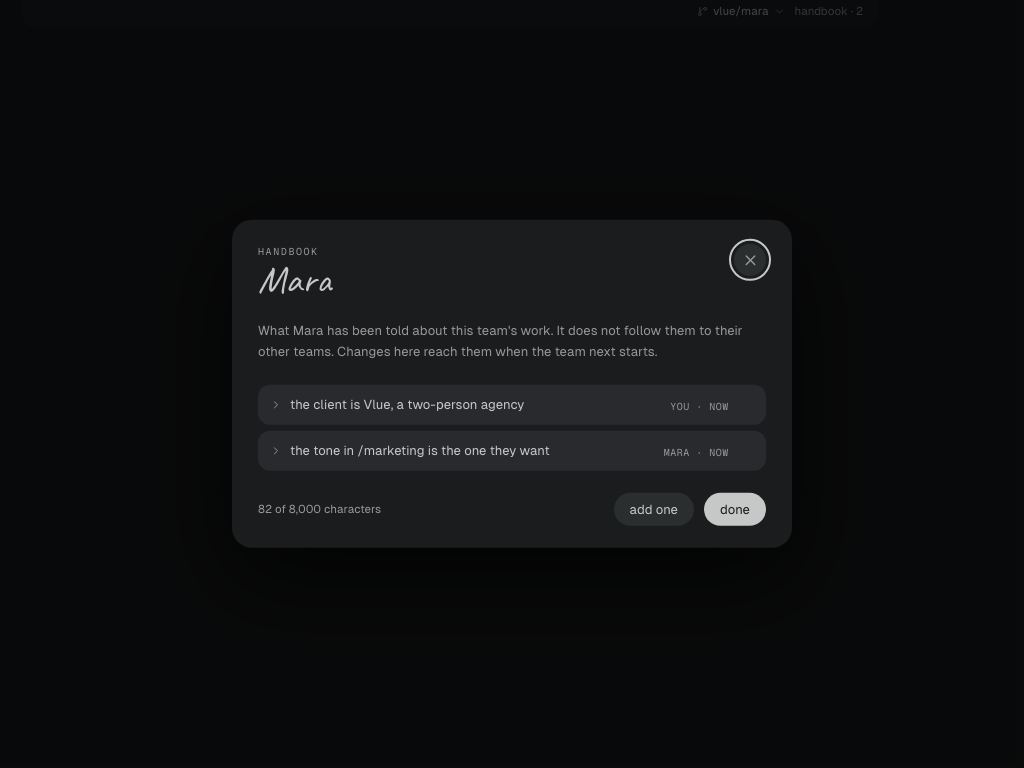
Test: the panel › hands the composer the words rather than writing an entry itself
The image size is (1024, 768).
Click the button "add one": (654, 509) [614,493,694,526]
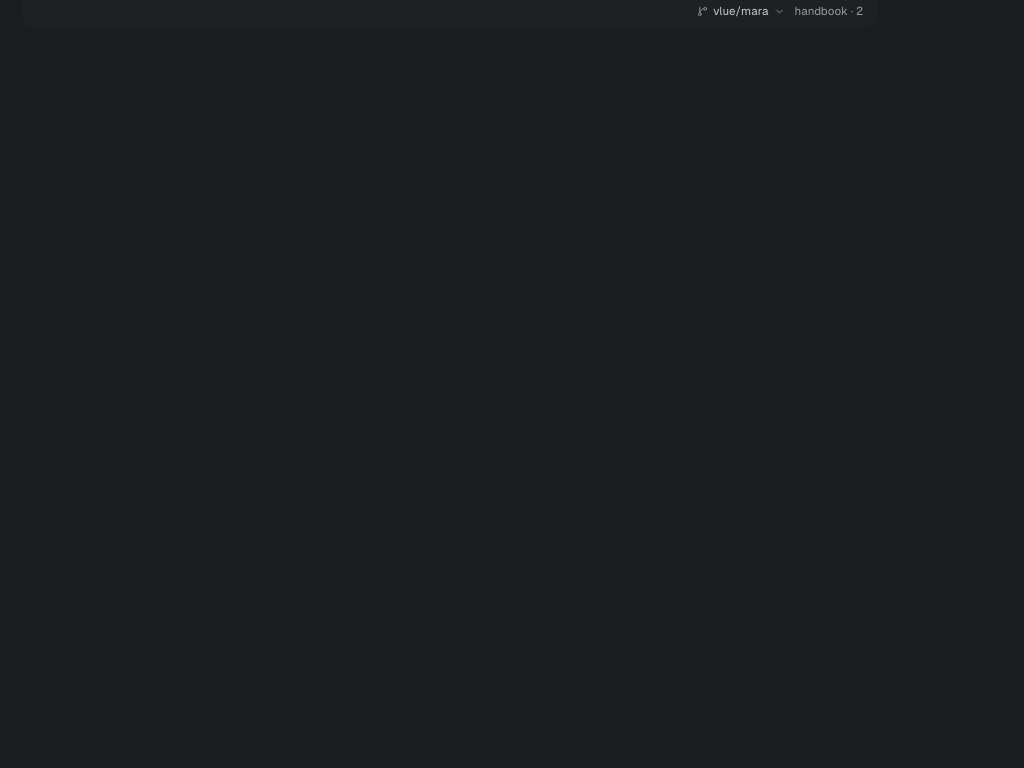
Expected: the dialog with class "modal" is gone
